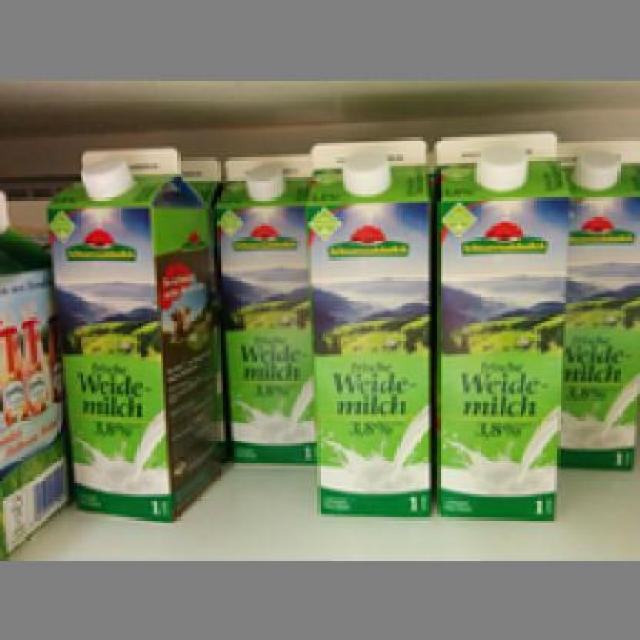Milk: (43, 143, 223, 520), (428, 123, 564, 523), (300, 134, 437, 517), (212, 152, 308, 472), (557, 142, 637, 475)
